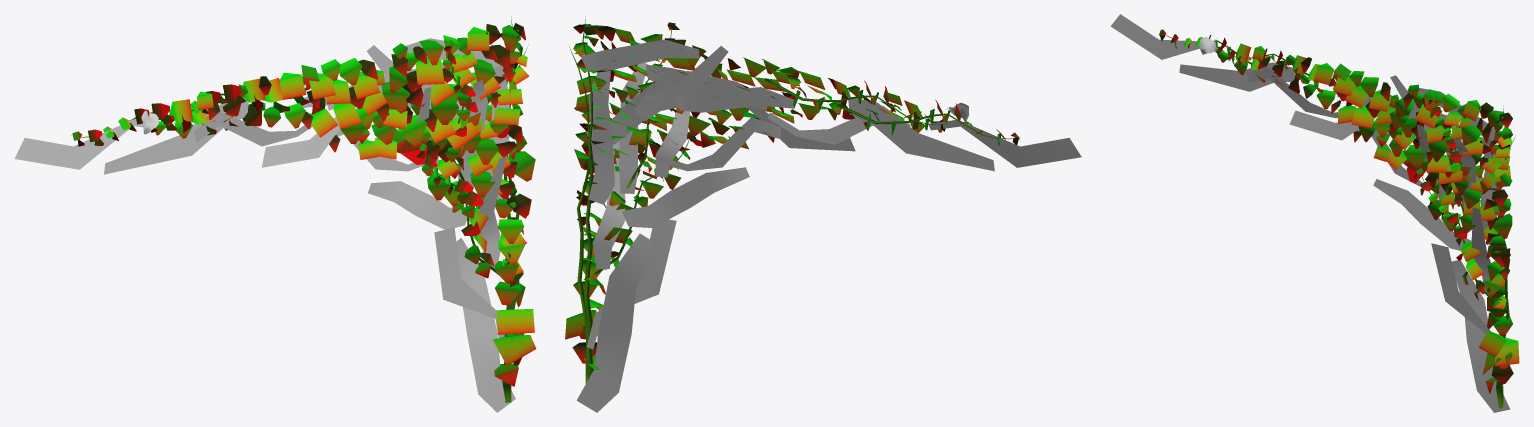
Rendered from Var1_LOD2.fbx.
The picture shows the model from 3 angles, left to right: view 1: azimuth 30°, elevation 25°; view 2: azimuth 150°, elevation 25°; view 3: azimuth 330°, elevation 25°; orthographic projection. The views are drawn at different scales.
Parts seen in each view (by area): view 1: _5335_Var1_LOD2; view 2: _5335_Var1_LOD2; view 3: _5335_Var1_LOD2.
Boxes of the visible parts, x1,y1,x2,y2 form: _5335_Var1_LOD2: (14, 17, 536, 412); _5335_Var1_LOD2: (565, 16, 1081, 412); _5335_Var1_LOD2: (1110, 14, 1519, 412).
Bounding box in the file's own units: 126 × 93.47 × 12.36.
